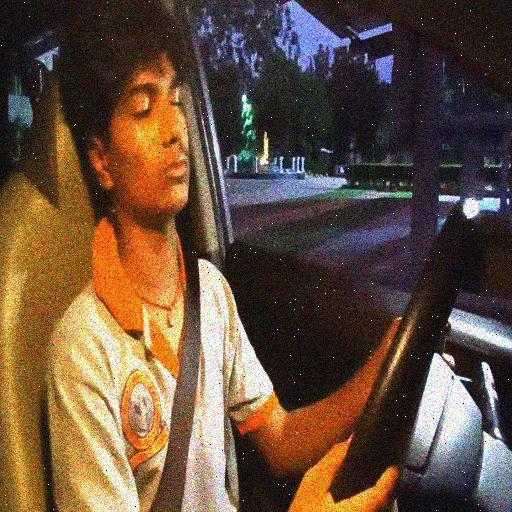sleepy: (60, 0, 224, 457)
